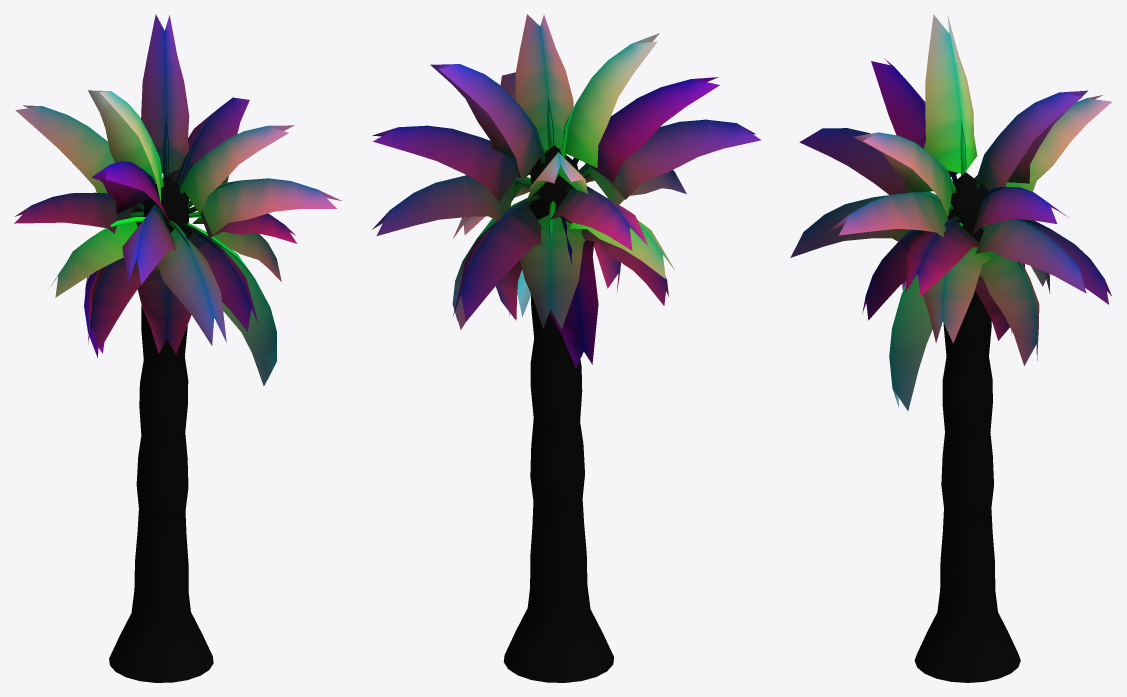
Rendered from M_Palm_2_1.fbx.
The picture shows the model from 3 angles, left to right: view 1: azimuth 30°, elevation 25°; view 2: azimuth 150°, elevation 25°; view 3: azimuth 270°, elevation 25°; orthographic projection. The views are drawn at different scales.
Visible parts, largest first — view 1: Palm_2_1; view 2: Palm_2_1; view 3: Palm_2_1.
Boxes of the visible parts, x1,y1,x2,y2 form: Palm_2_1: [14, 14, 341, 682]; Palm_2_1: [372, 14, 761, 682]; Palm_2_1: [790, 14, 1111, 682].
Size of the model in its own units: 464 by 1070 by 515.
